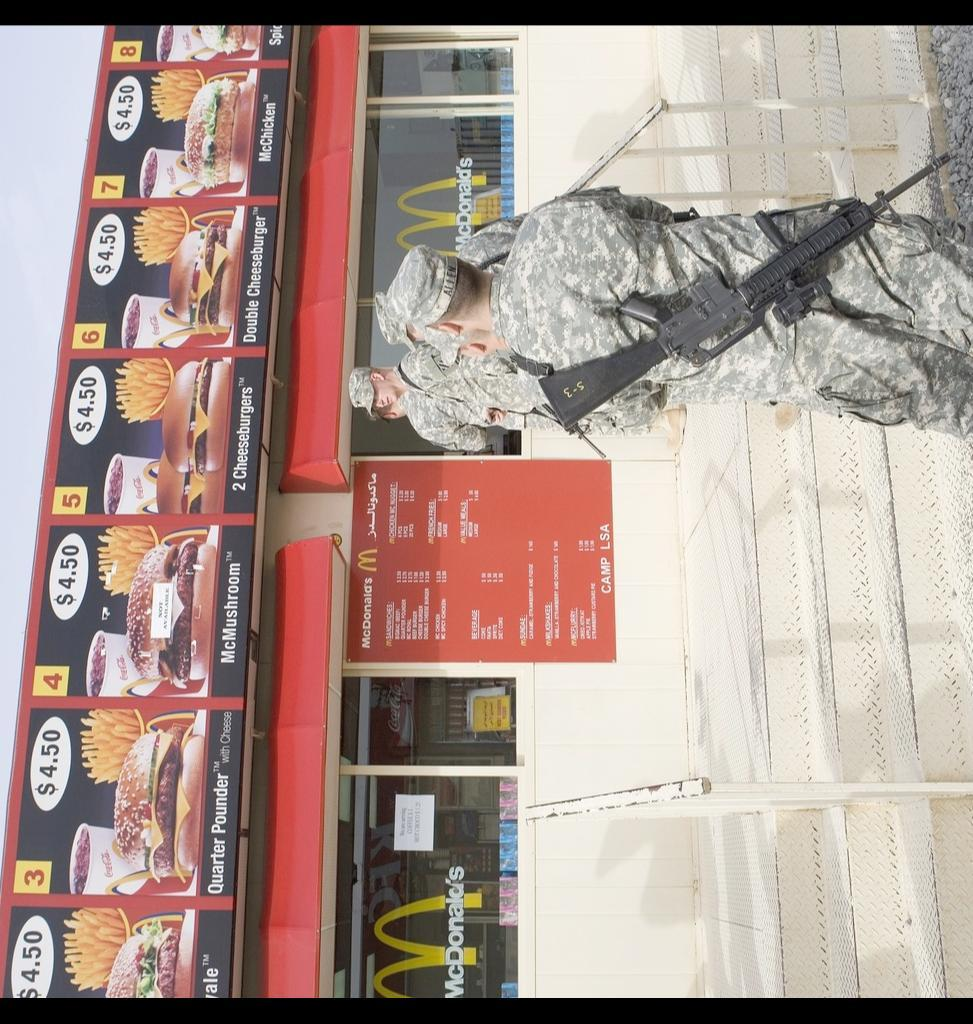gun: (544, 146, 960, 418)
